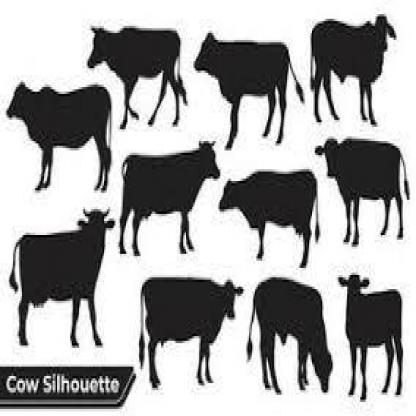cow: (9, 202, 116, 350), (195, 30, 304, 146), (119, 136, 219, 258), (7, 80, 112, 190), (138, 276, 240, 389), (246, 274, 334, 396), (315, 136, 409, 247), (219, 171, 322, 269), (87, 24, 187, 124), (310, 12, 397, 124), (336, 272, 404, 403)
